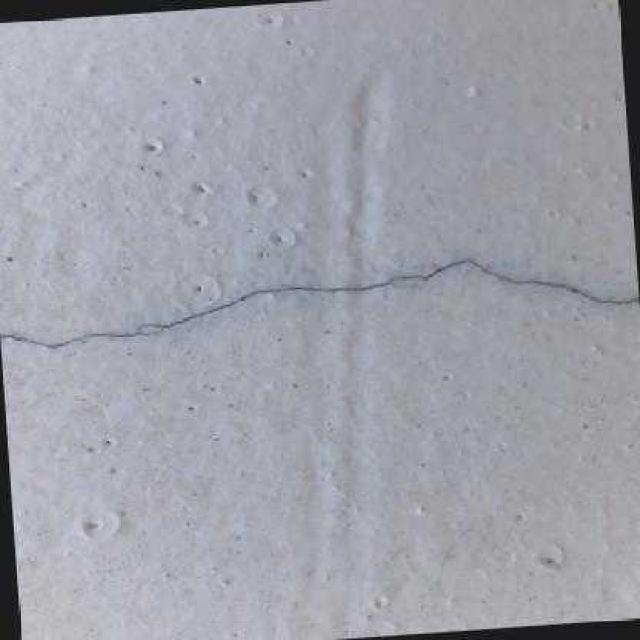D00: (0, 251, 640, 353)
